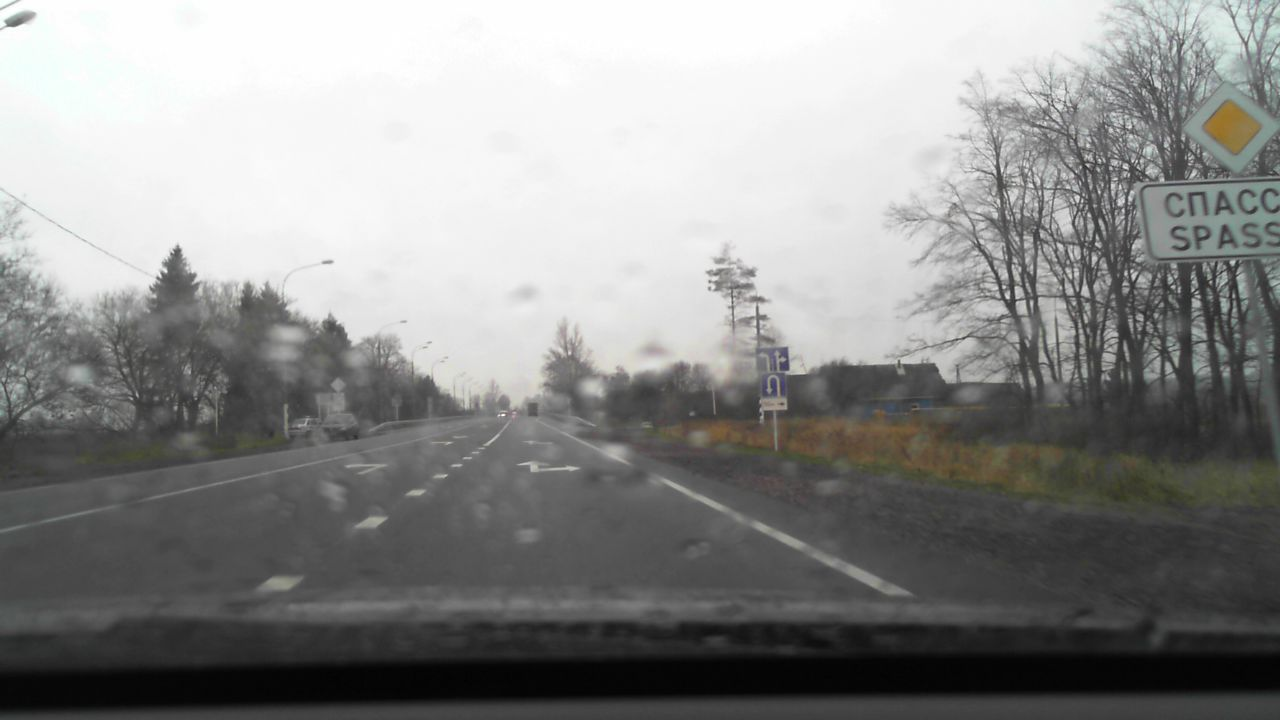U-turn: (761, 373, 786, 397)
